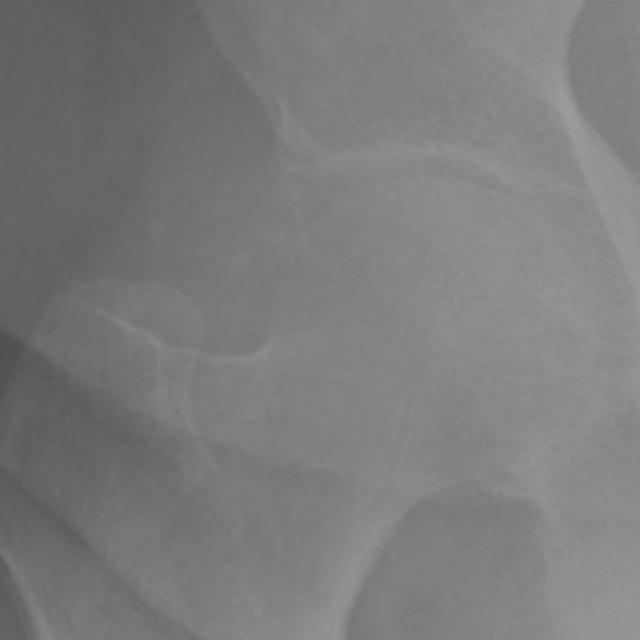Fitted_femural_head: (323, 180, 432, 323)
